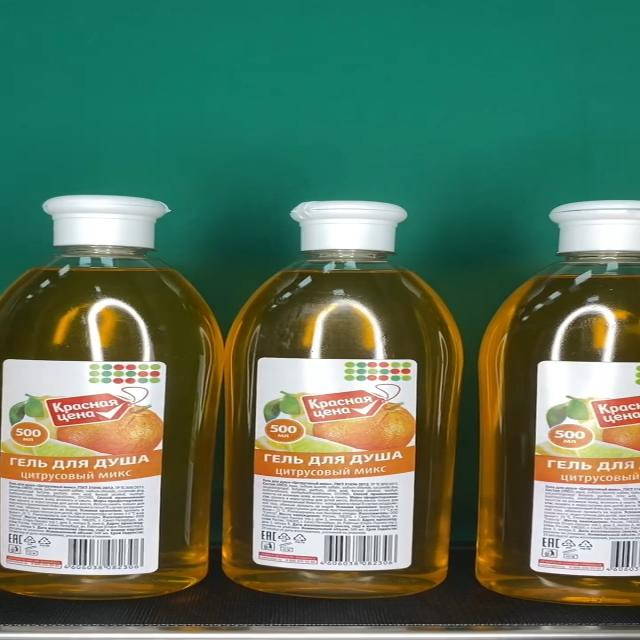Bottle: (222, 202, 464, 599), (0, 195, 223, 600)
Cap: (42, 195, 169, 248), (290, 202, 408, 252)
